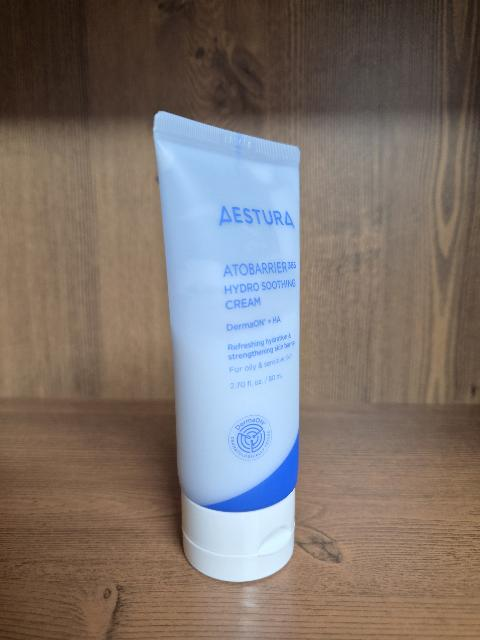handcream: (153, 111, 301, 582)
